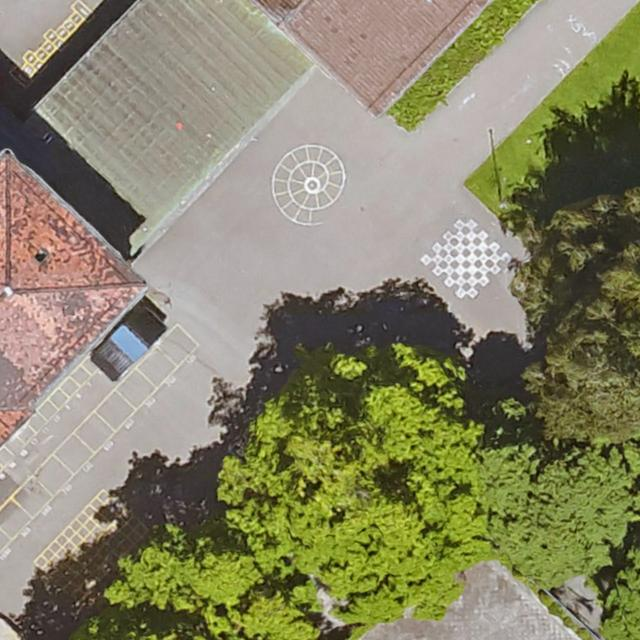tree: (216, 356, 503, 619), (509, 197, 640, 442), (487, 440, 640, 583), (80, 535, 261, 640), (227, 590, 320, 640), (606, 532, 640, 640)
